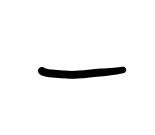minus: (37, 63, 126, 81)
